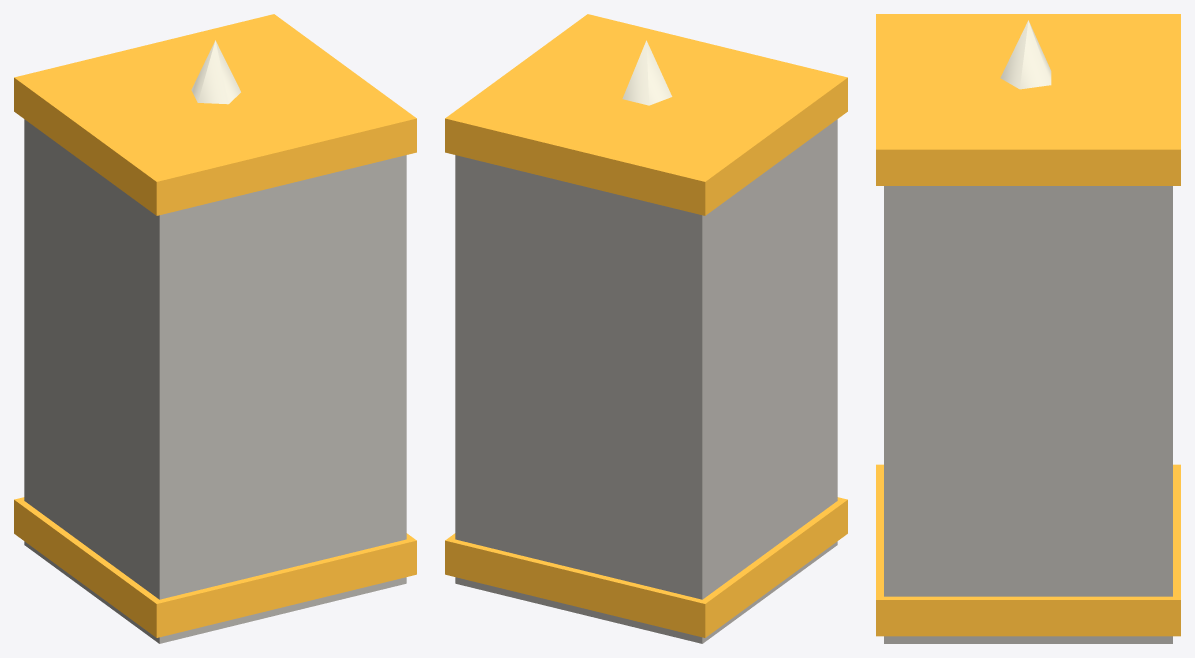
The model's file is wall.glb.
3 views of the same model, side by side, from view 1: azimuth 30°, elevation 25°; view 2: azimuth 150°, elevation 25°; view 3: azimuth 270°, elevation 25° (orthographic). The views are drawn at different scales.
Parts seen in each view (by area): view 1: stairway wall; view 2: stairway wall; view 3: stairway wall.
Part boxes in pixels (box(x1,y1,x2,y2)): stairway wall: box(14, 14, 416, 643); stairway wall: box(445, 14, 847, 643); stairway wall: box(876, 14, 1180, 643).
Size of the model in its own units: 2 by 3.85 by 1.9.
